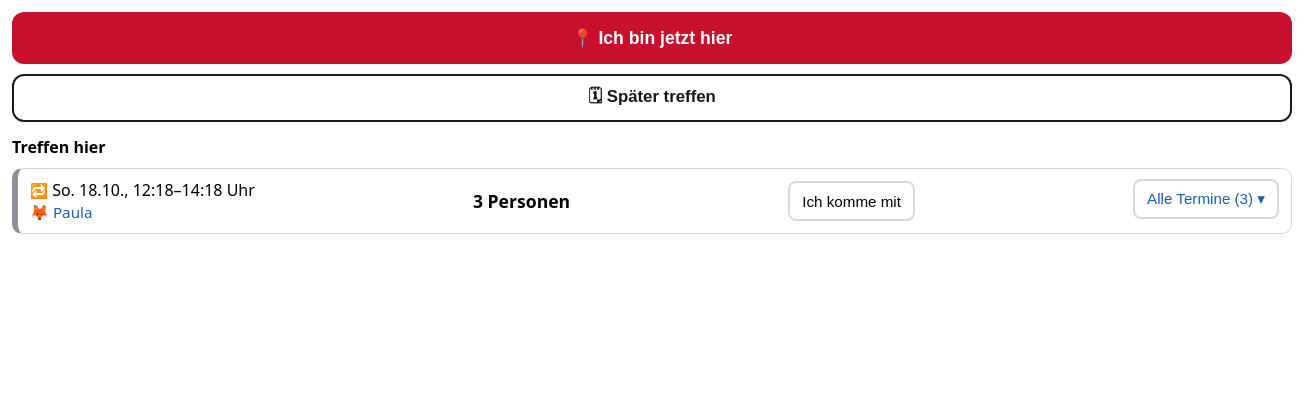
it: PlaceMeetups › shows the next date of a Series and the others in "Alle Termine"
Expected: the number of list items with class "meetup-card" is 1, x1=12 y1=168 x2=1292 y2=234
Click the button "Alle Termine (3) ▾" at {"x": 1206, "y": 199}, box x1=1133 y1=179 x2=1279 y2=219
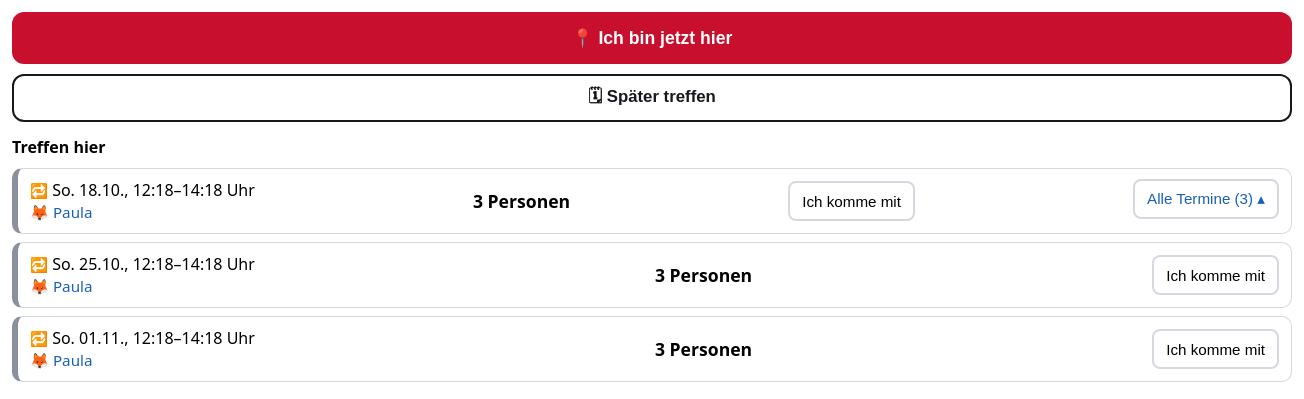
Now the number of list items with class "meetup-card" is 3, box x1=12 y1=168 x2=1292 y2=234; x1=12 y1=242 x2=1292 y2=308; x1=12 y1=316 x2=1292 y2=382
Now the number of elements with class "series-tag" is 3, box x1=30 y1=181 x2=48 y2=200; x1=30 y1=255 x2=48 y2=274; x1=30 y1=329 x2=48 y2=348
